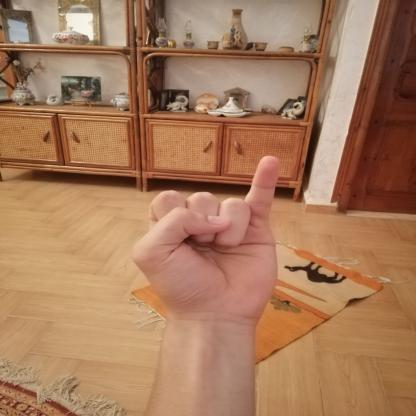MEEM: (111, 141, 303, 331)
